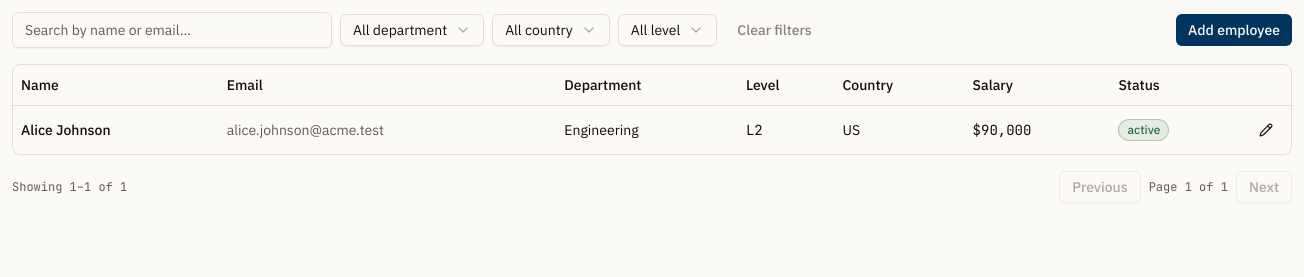
Scenario: EmployeeTable › clears an active filter and re-fetches with defaults
Check: the button "Clear filters" is disabled, box [725, 14, 824, 46]
Click the dropdown labelled "department".
click(412, 30)  # box [340, 14, 484, 46]
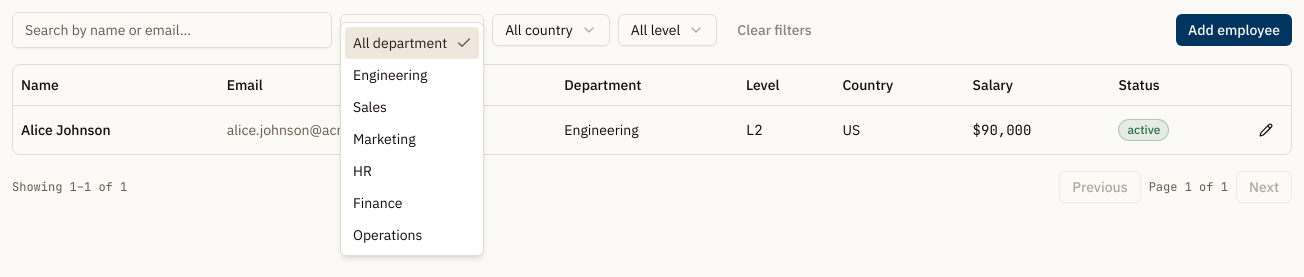
Click the option "Engineering".
click(390, 75)  # box [353, 66, 427, 84]
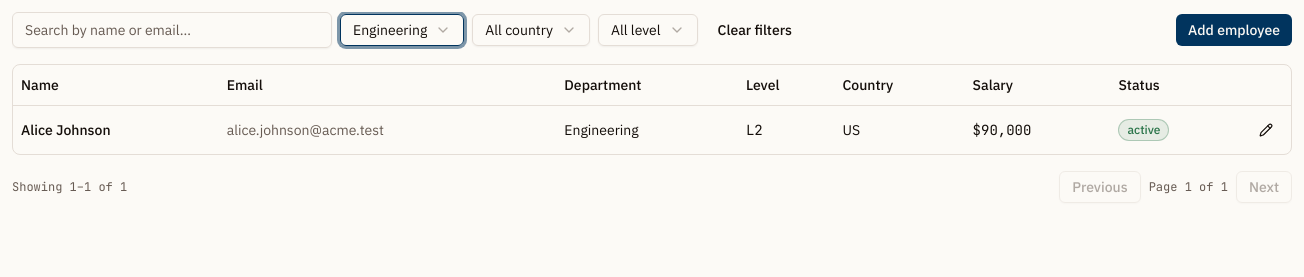
Check: the button "Clear filters" is enabled
Click the button "Clear filters".
click(755, 30)  # box [706, 14, 804, 46]
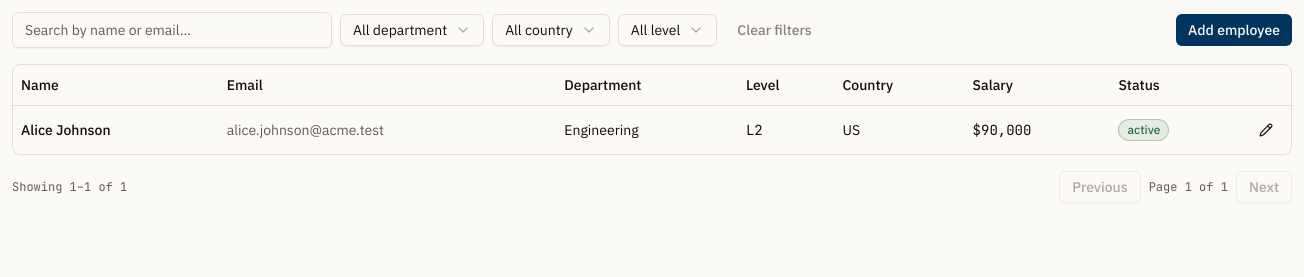
Check: the dropdown labelled "department" reads "All department", box [340, 14, 484, 46]
Check: the button "Clear filters" is disabled, box [725, 14, 824, 46]
